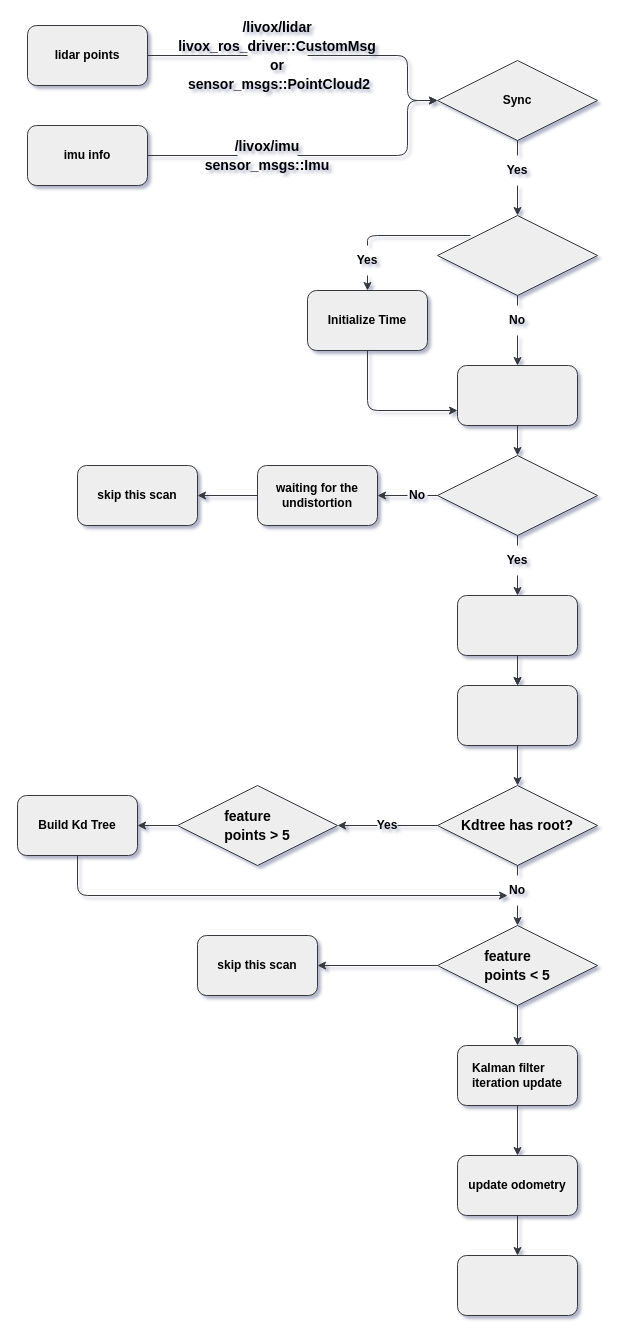
Image size: 621x1339. Some labels were removed from this diagram. The shapes that lost their labels are listed below. From the top down, each one's centre as x and y in pixels, then its label:
At pixel 517 255: "First scan?".
At pixel 517 395: "ImuProcess::Process".
At pixel 517 495: "Feature point undistort".
At pixel 517 625: "lasermap fov segment".
At pixel 517 715: "Down size feature points".
At pixel 517 1285: "update map".
